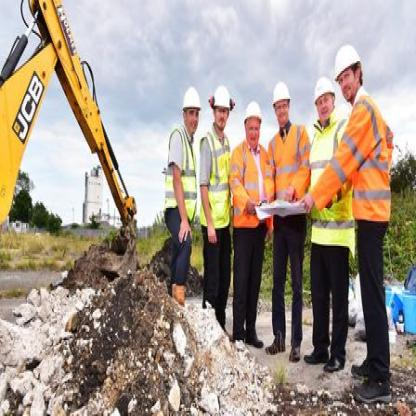person: (306, 26, 400, 404), (227, 66, 271, 371), (308, 58, 344, 409), (266, 76, 306, 380), (198, 71, 228, 350), (165, 59, 194, 312)
